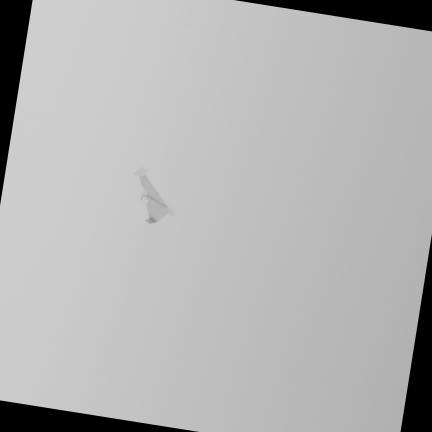Shahed: (133, 168, 176, 223)
